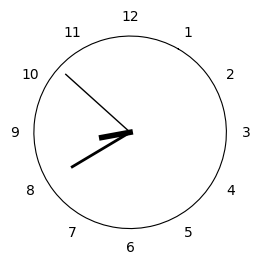12: (121, 9, 139, 23)
circle: (34, 36, 227, 229)
hours: (99, 129, 134, 141)
minutes: (71, 136, 124, 168)
seconds: (65, 73, 128, 129)
